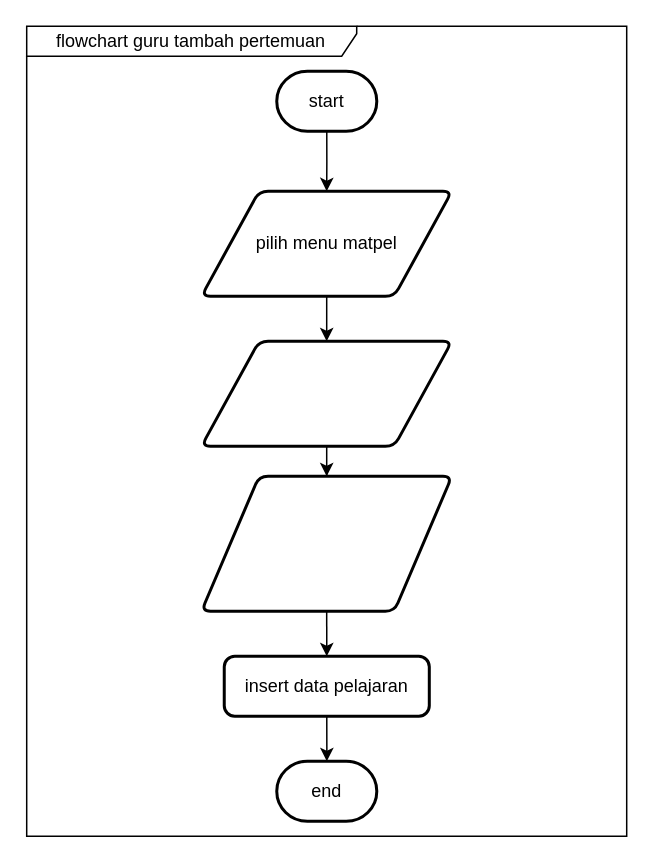
Some shapes in this 653 by 863 pixel diagram are drawn without their labels. The box of each missing label's shape, as (x1, y1, x2, y2) in pixels:
masukan : judul pertemuan link zoom, materi: (199, 474, 453, 612)
pilih pelajaran: (199, 339, 453, 447)
